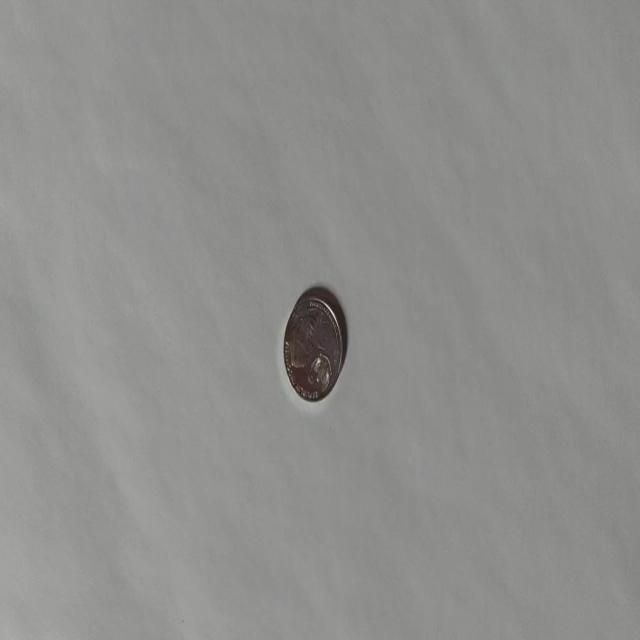dua ratus rupiah: (282, 288, 344, 403)
